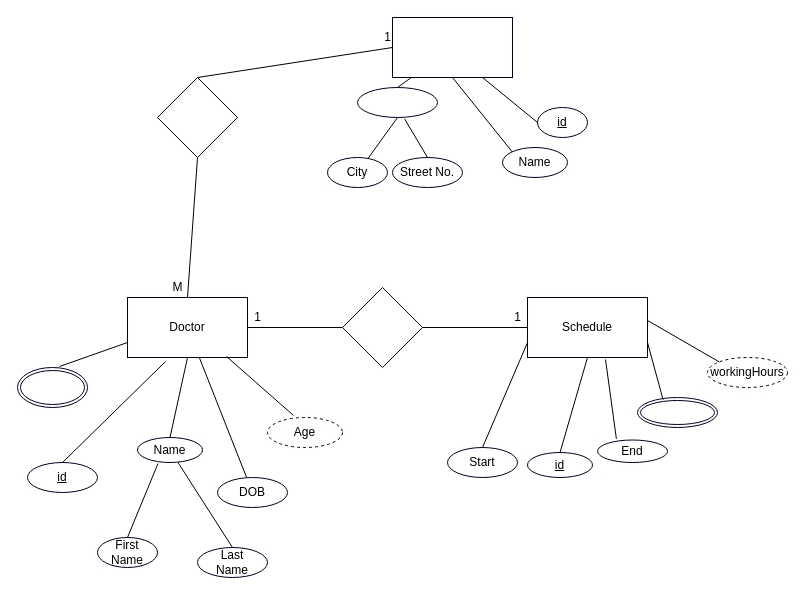
The diagram is 805 pixels wide and 595 high, and some of its shapes have lost their labels. Each missing label, with the centre of its shape:
"Address" goes at point (397, 102).
"Clinic" goes at point (452, 47).
"DaysOff" goes at point (677, 412).
"Has" goes at point (382, 327).
"Have" goes at point (197, 117).
"Phone" goes at point (52, 387).
